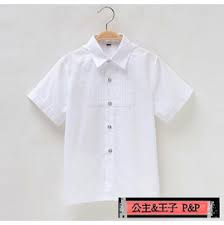C_shirt: (28, 34, 192, 202)
